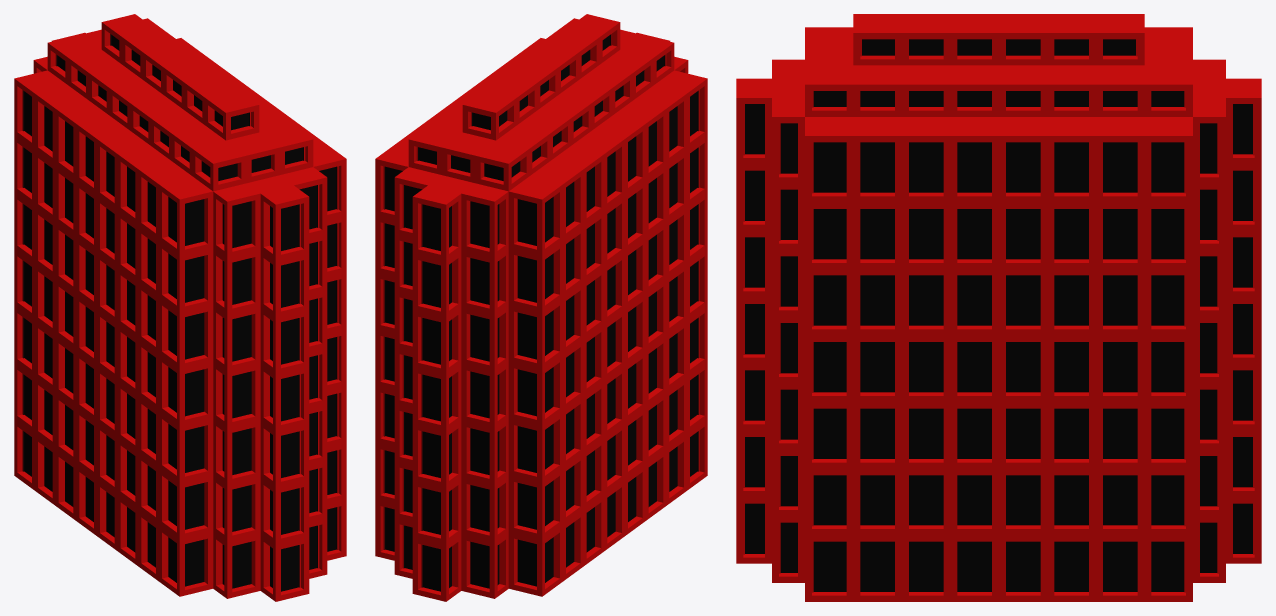
File: house5.FBX
3 renders of one model, left to right at view 1: azimuth 30°, elevation 25°; view 2: azimuth 150°, elevation 25°; view 3: azimuth 270°, elevation 25°, orthographic. The views are drawn at different scales.
Visible parts, largest first — view 1: Box001, Object001; view 2: Box001, Object001; view 3: Box001, Object001.
Boxes of the visible parts, x1,y1,x2,y2 form: Box001: (14,14,346,601); Object001: (23,34,337,591); Box001: (375,14,707,601); Object001: (384,34,698,591); Box001: (736,14,1261,601); Object001: (745,39,1252,591).
Bounding box in the file's own units: 247 × 639 × 573.
